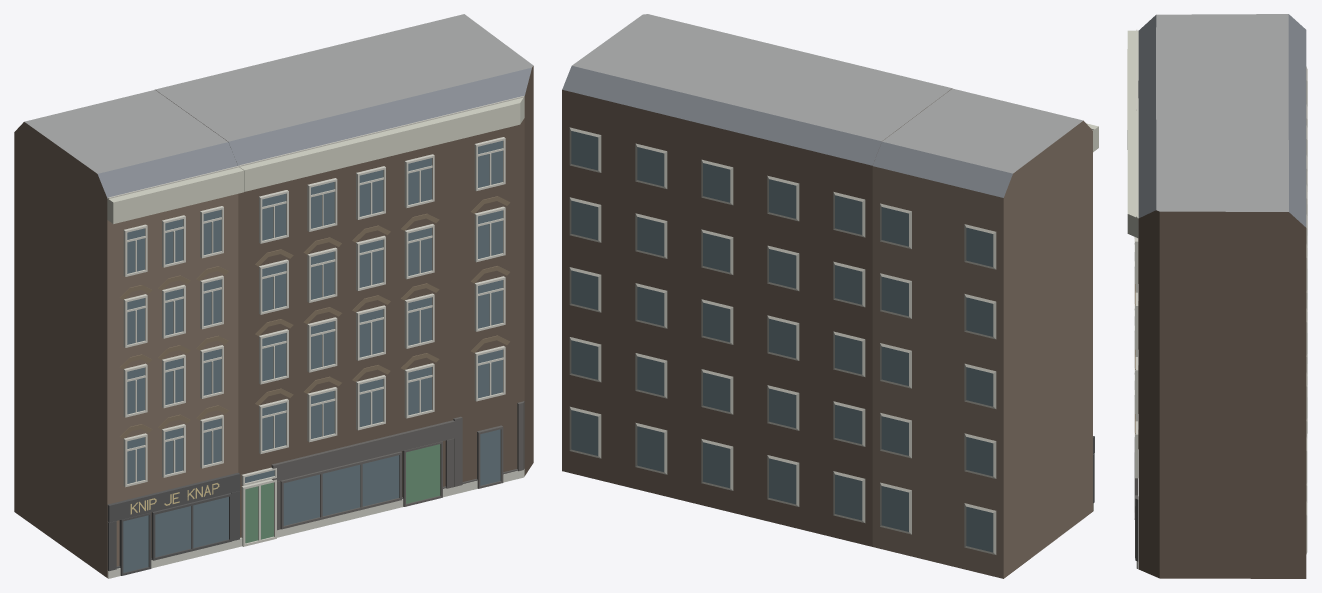
Rendered from chunk-face-kinker-112-116.glb.
The picture shows the model from 3 angles, left to right: view 1: azimuth 30°, elevation 25°; view 2: azimuth 150°, elevation 25°; view 3: azimuth 270°, elevation 25°; orthographic projection. The views are drawn at different scales.
Visible parts, largest first — view 1: face-kinker-112-116; view 2: face-kinker-112-116; view 3: face-kinker-112-116.
Part boxes in pixels (bbox=[...]): face-kinker-112-116: bbox=[14, 14, 533, 578]; face-kinker-112-116: bbox=[562, 14, 1098, 578]; face-kinker-112-116: bbox=[1127, 14, 1307, 578].
Size of the model in its own units: 17.04 by 14.69 by 6.53.
